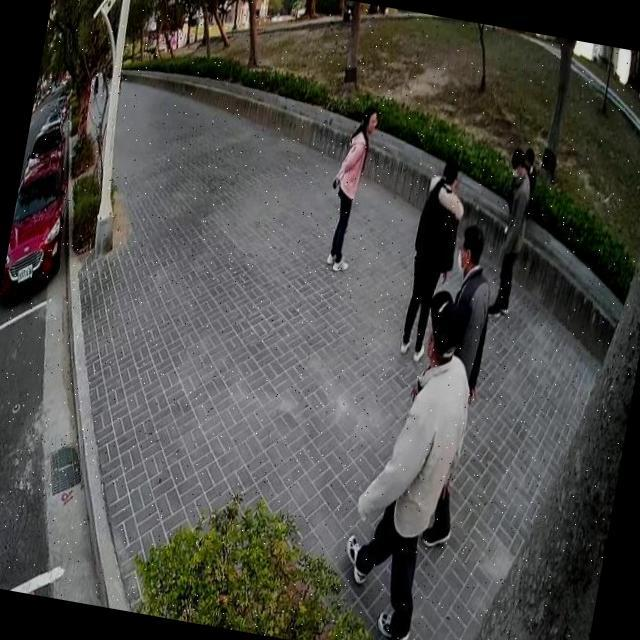person: (328, 270, 493, 640), (402, 216, 511, 558), (392, 144, 474, 366), (314, 96, 382, 278), (481, 143, 543, 324), (498, 139, 544, 242)
